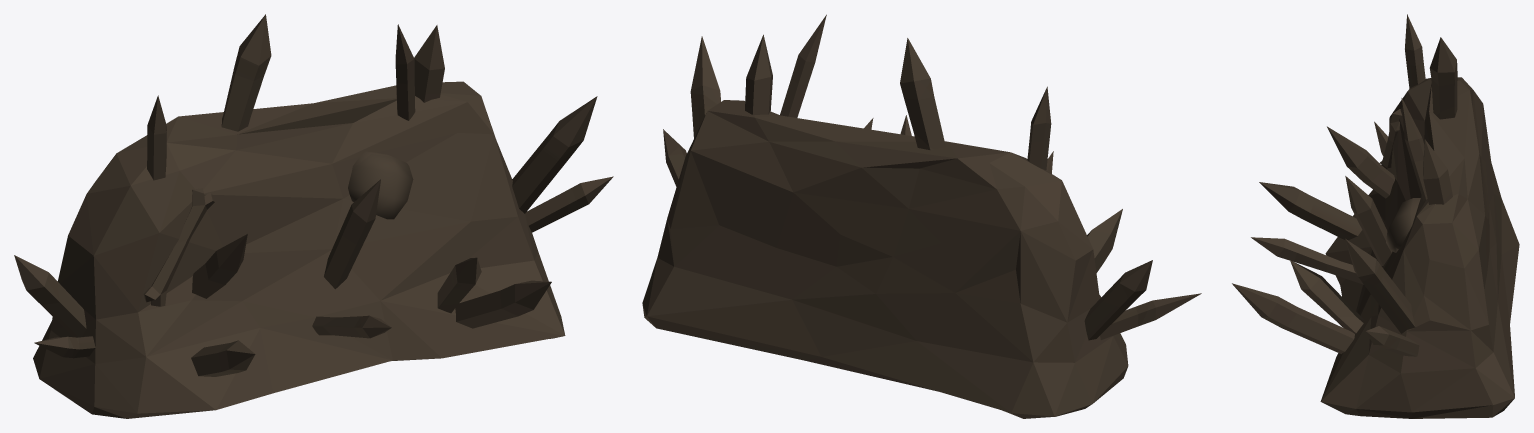
The model's file is bog_barrier.gltf.
3 renders of one model, left to right at view 1: azimuth 30°, elevation 25°; view 2: azimuth 150°, elevation 25°; view 3: azimuth 270°, elevation 25°, orthographic. The views are drawn at different scales.
Parts seen in each view (by area): view 1: bog_barrier; view 2: bog_barrier; view 3: bog_barrier.
Boxes of the visible parts, x1,y1,x2,y2 form: bog_barrier: [14, 14, 613, 418]; bog_barrier: [642, 14, 1201, 418]; bog_barrier: [1232, 14, 1519, 418].
Bounding box in the file's own units: 2.64 × 1.51 × 1.37.
1 material, 1 textured.
